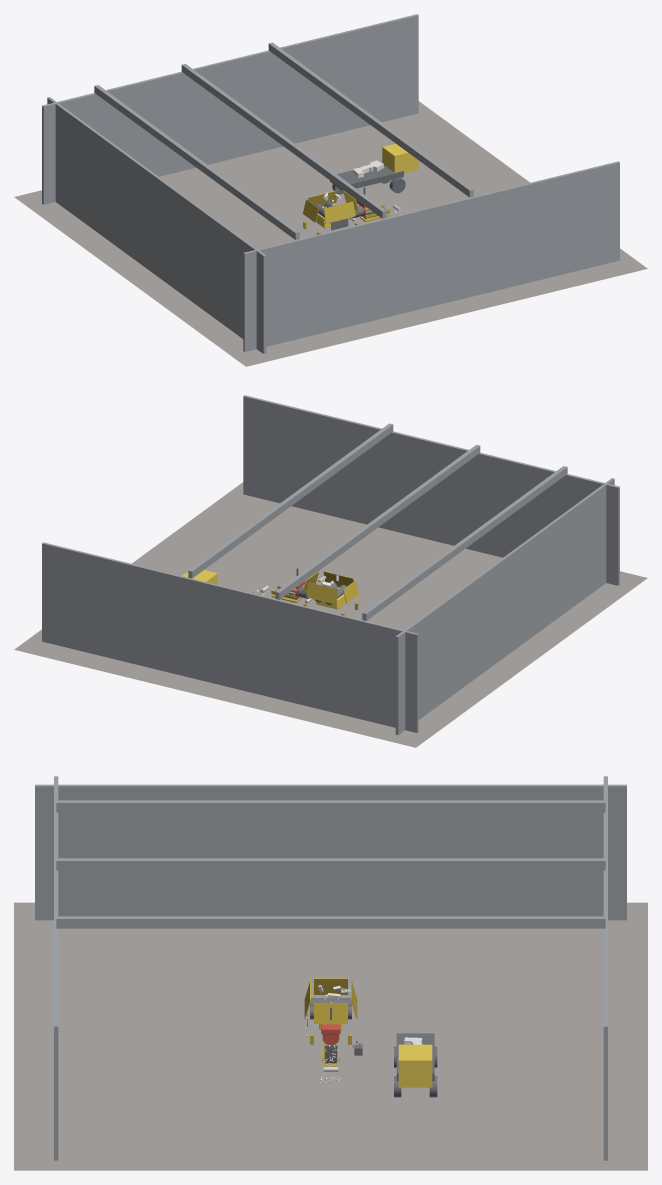
The model's file is Stage2-Shredder.fbx.
3 renders of one model, top to bottom at view 1: azimuth 30°, elevation 25°; view 2: azimuth 150°, elevation 25°; view 3: azimuth 270°, elevation 25°, orthographic. The views are drawn at different scales.
Parts seen in each view (by area): view 1: S2_Plant_WallLeft, S2_Plant_ConcreteFloor, S2_Plant_WallRight, S2_Plant_WallBack, S2_Plant_RoofTruss_2, S2_Plant_RoofTruss_0, S2_Plant_RoofTruss_1, S2_Truck_Cab, S2_Truck_Bed; view 2: S2_Plant_WallRight, S2_Plant_ConcreteFloor, S2_Plant_WallLeft, S2_Plant_WallBack, S2_Plant_RoofTruss_2, S2_Plant_RoofTruss_0, S2_Plant_RoofTruss_1; view 3: S2_Plant_ConcreteFloor, S2_Plant_WallBack, S2_Plant_RoofTruss_0, S2_Plant_RoofTruss_1, S2_Plant_RoofTruss_2, S2_Plant_WallRight, S2_Plant_WallLeft, S2_Truck_Cab, S2_Hopper_Right, S2_Truck_Bed.
Boxes of the visible parts, bbox=[...] form: S2_Plant_WallLeft: bbox=[243, 161, 619, 351]; S2_Plant_ConcreteFloor: bbox=[14, 101, 647, 366]; S2_Plant_WallRight: bbox=[42, 14, 418, 204]; S2_Plant_WallBack: bbox=[47, 97, 266, 353]; S2_Plant_RoofTruss_2: bbox=[268, 42, 473, 197]; S2_Plant_RoofTruss_0: bbox=[94, 85, 299, 239]; S2_Plant_RoofTruss_1: bbox=[181, 63, 386, 218]; S2_Truck_Cab: bbox=[382, 143, 418, 173]; S2_Truck_Bed: bbox=[330, 165, 403, 190]; S2_Plant_WallRight: bbox=[42, 542, 418, 732]; S2_Plant_ConcreteFloor: bbox=[14, 482, 647, 747]; S2_Plant_WallLeft: bbox=[243, 395, 619, 585]; S2_Plant_WallBack: bbox=[395, 478, 614, 734]; S2_Plant_RoofTruss_2: bbox=[188, 423, 393, 578]; S2_Plant_RoofTruss_0: bbox=[362, 466, 567, 620]; S2_Plant_RoofTruss_1: bbox=[275, 444, 480, 599]; S2_Plant_ConcreteFloor: bbox=[14, 902, 647, 1170]; S2_Plant_WallBack: bbox=[35, 784, 626, 920]; S2_Plant_RoofTruss_0: bbox=[56, 800, 605, 812]; S2_Plant_RoofTruss_1: bbox=[56, 858, 605, 870]; S2_Plant_RoofTruss_2: bbox=[56, 916, 605, 928]; S2_Plant_WallRight: bbox=[603, 776, 607, 1160]; S2_Plant_WallLeft: bbox=[54, 776, 58, 1160]; S2_Truck_Cab: bbox=[398, 1044, 432, 1087]; S2_Hopper_Right: bbox=[314, 1003, 347, 1023]; S2_Truck_Bed: bbox=[396, 1033, 434, 1081].
Bounding box in the file's own units: 30 × 7.6 × 30.
